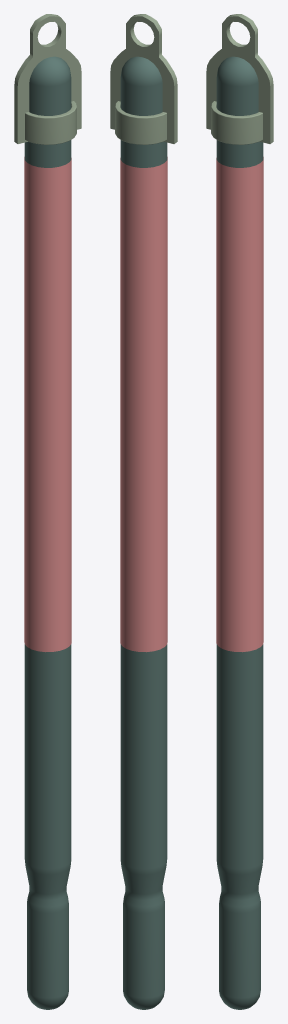
File: LP_Thermometer_01 - Copy.fbx
The picture shows the model from 3 angles, left to right: view 1: azimuth 30°, elevation 25°; view 2: azimuth 150°, elevation 25°; view 3: azimuth 330°, elevation 25°; orthographic projection.
Visible parts, largest first — view 1: polySurface12; view 2: polySurface12; view 3: polySurface12.
Boxes of the visible parts, x1,y1,x2,y2 form: polySurface12: (14,14,81,1009); polySurface12: (110,14,177,1009); polySurface12: (206,14,273,1009).
Bounding box in the file's own units: 1.09 × 16.16 × 0.8576.
